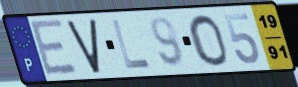5: (221, 11, 262, 66)
9: (149, 16, 186, 69)
E: (27, 18, 80, 79)
L: (110, 18, 154, 72)
O: (187, 13, 230, 68)
V: (64, 16, 102, 75)
